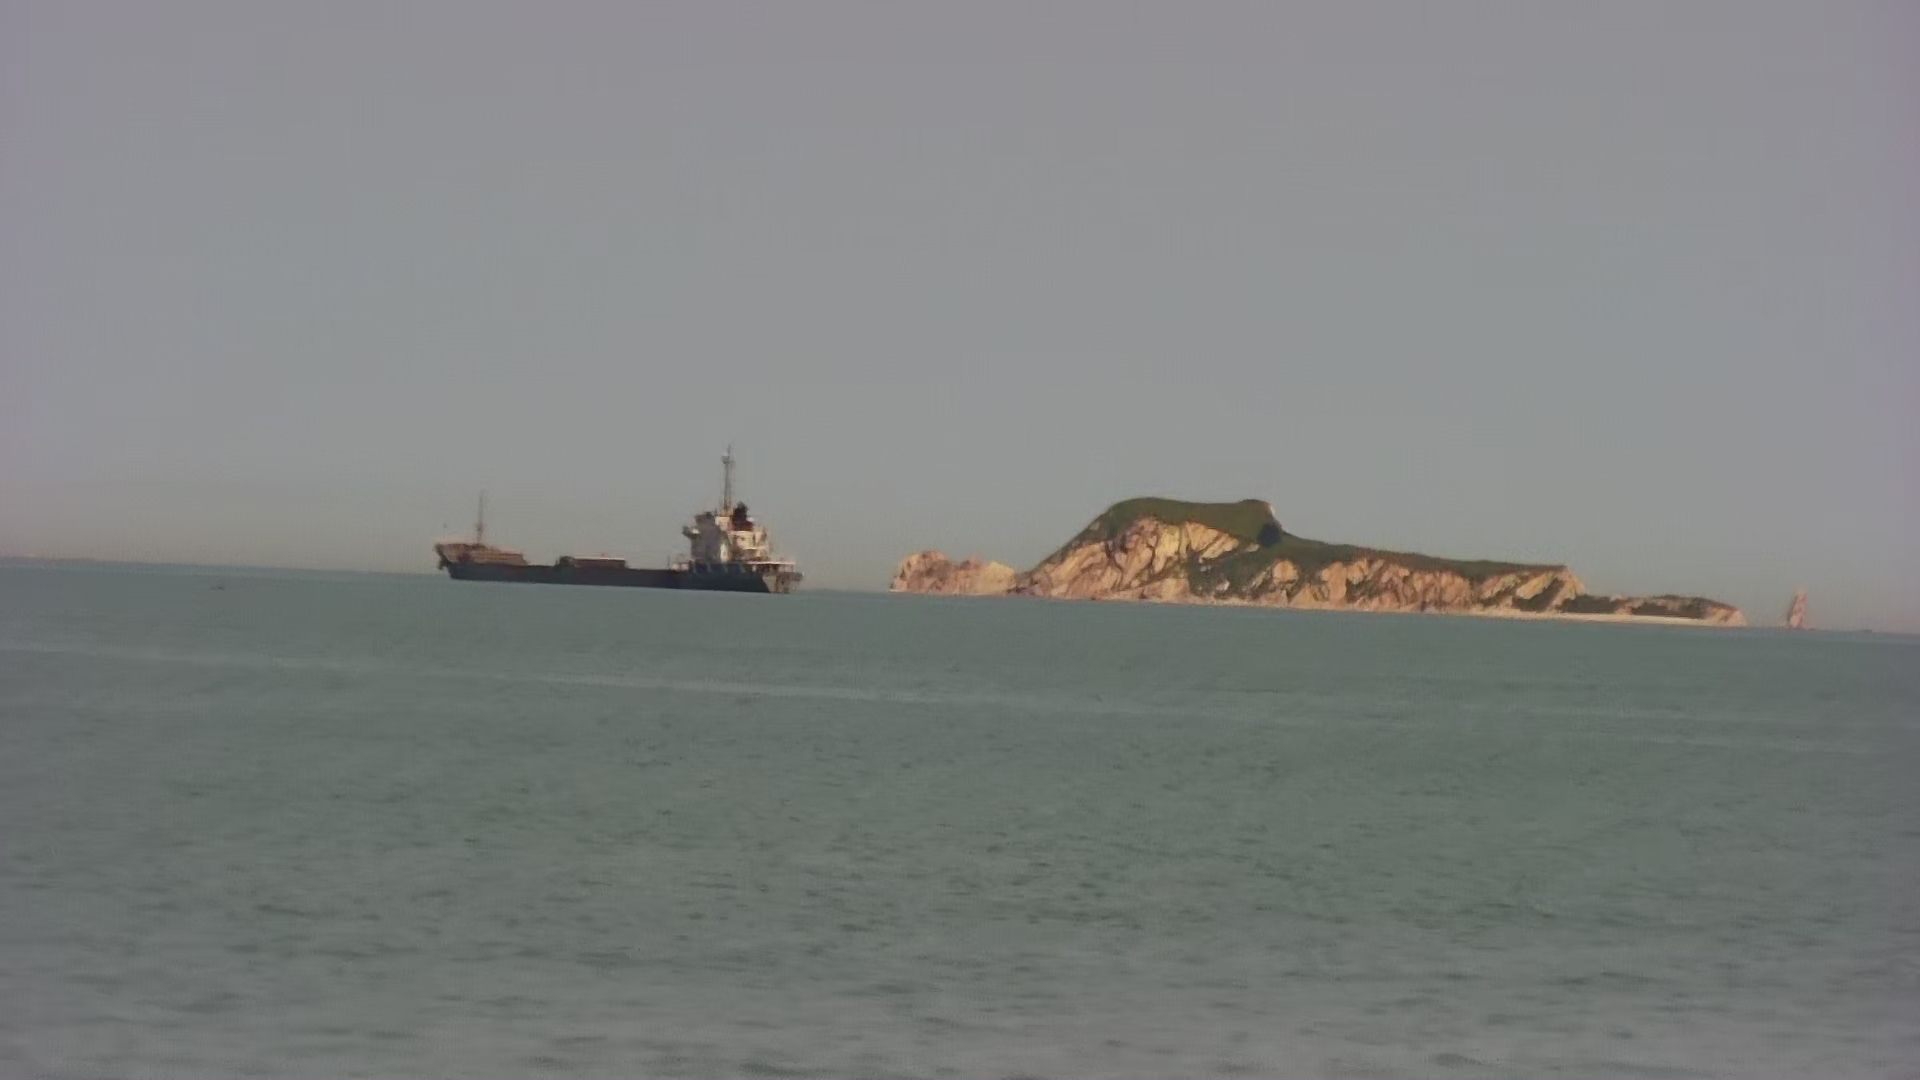rock: (887, 493, 1756, 634)
ship: (430, 502, 804, 597)
